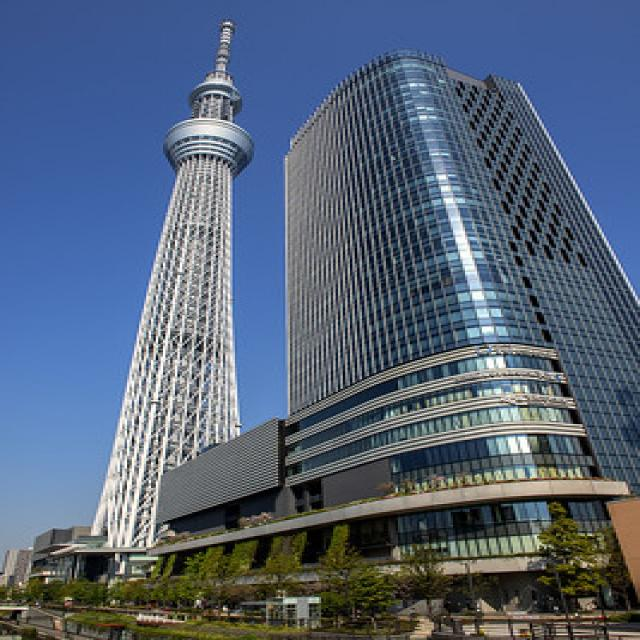Normal_building: (273, 45, 640, 640)
